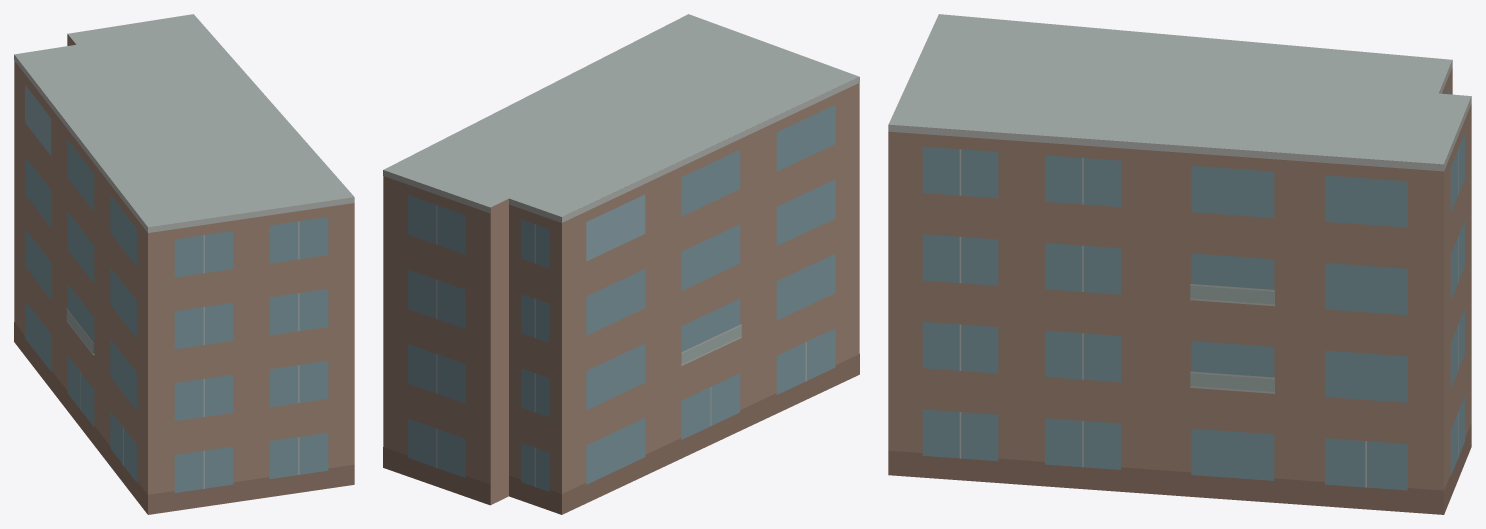
File: survey-upis-32479787.glb
The picture shows the model from 3 angles, left to right: view 1: azimuth 30°, elevation 25°; view 2: azimuth 150°, elevation 25°; view 3: azimuth 270°, elevation 25°; orthographic projection. The views are drawn at different scales.
Visible parts, largest first — view 1: survey-upis-32479787.tmp; view 2: survey-upis-32479787.tmp; view 3: survey-upis-32479787.tmp.
Boxes of the visible parts, x1=… form: survey-upis-32479787.tmp: x1=14, y1=14, x2=354, y2=514; survey-upis-32479787.tmp: x1=383, y1=14, x2=859, y2=514; survey-upis-32479787.tmp: x1=888, y1=14, x2=1471, y2=514.
Bounding box in the file's own units: 11.24 × 12.2 × 18.41.
